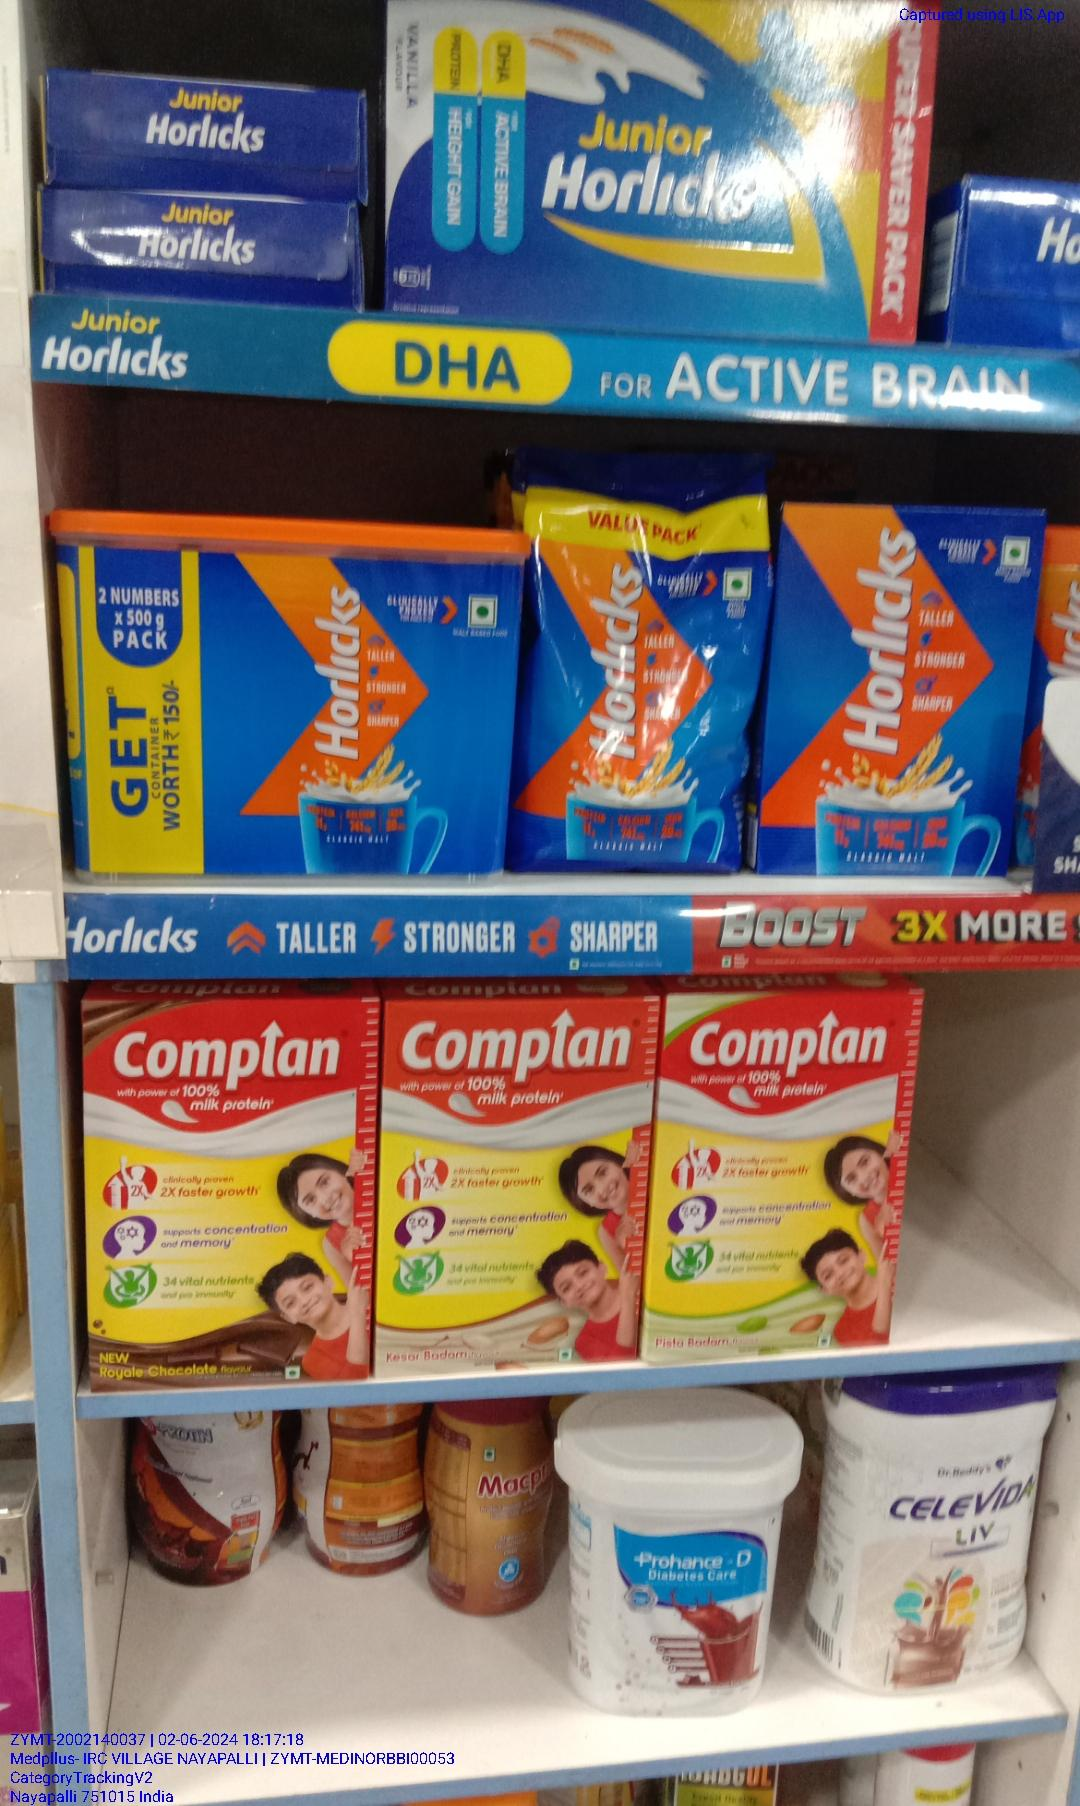COMPLAN_PISTA_BADAM_500_GMS_PACK: (651, 991, 904, 1356)
HORLICK_CLASSIC_MALT_500_G_PACK: (769, 496, 1021, 886)
HORLICK_CLASSIC_MALT_750_G_POUCH: (532, 478, 741, 875)
HORLICK_MALT_1_KG_CONTAINER: (67, 500, 505, 887)
